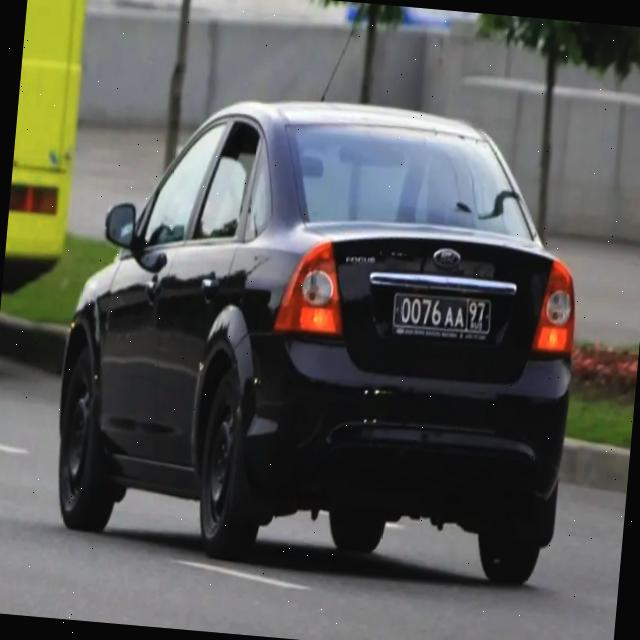number-plates: (390, 290, 492, 340)
